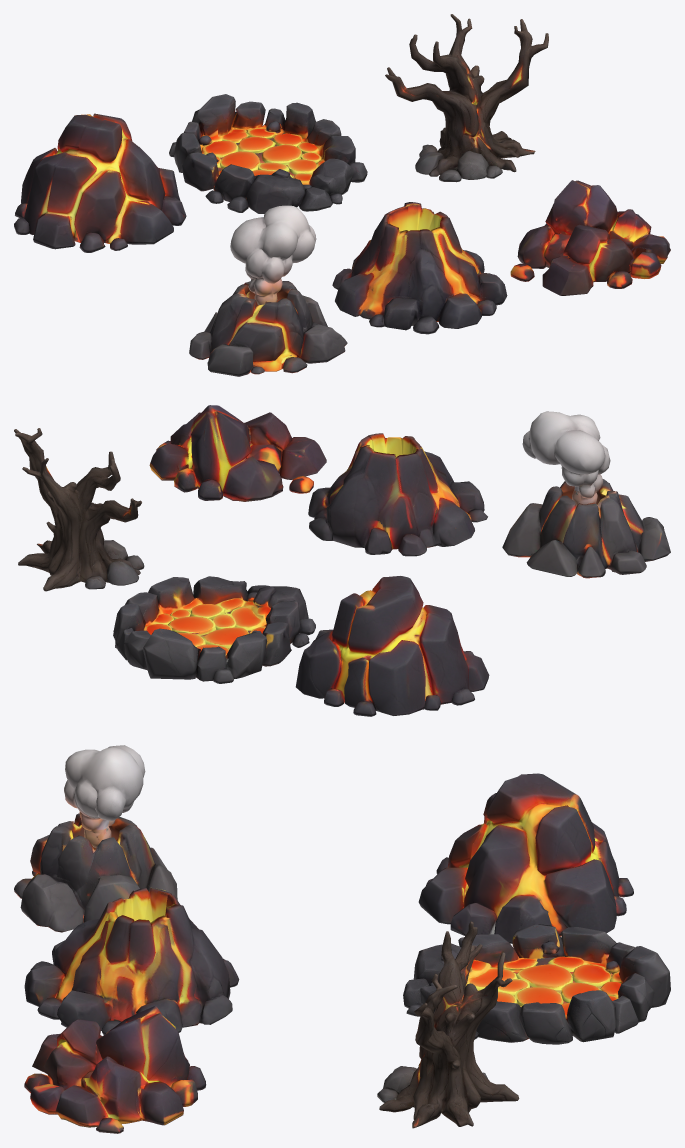
File: props_volcano.glb
3 renders of one model, top to bottom at view 1: azimuth 30°, elevation 25°; view 2: azimuth 150°, elevation 25°; view 3: azimuth 270°, elevation 25°, orthographic. The views are drawn at different scales.
Bounding box in the file's own units: 0.9487 × 0.2407 × 0.9111.
Materials: 1 (1 with a texture image).
